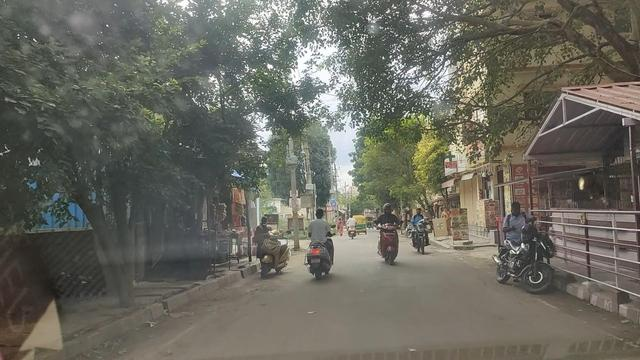LMV: (493, 196, 555, 298), (301, 203, 341, 293), (248, 215, 291, 279), (373, 198, 408, 271)
